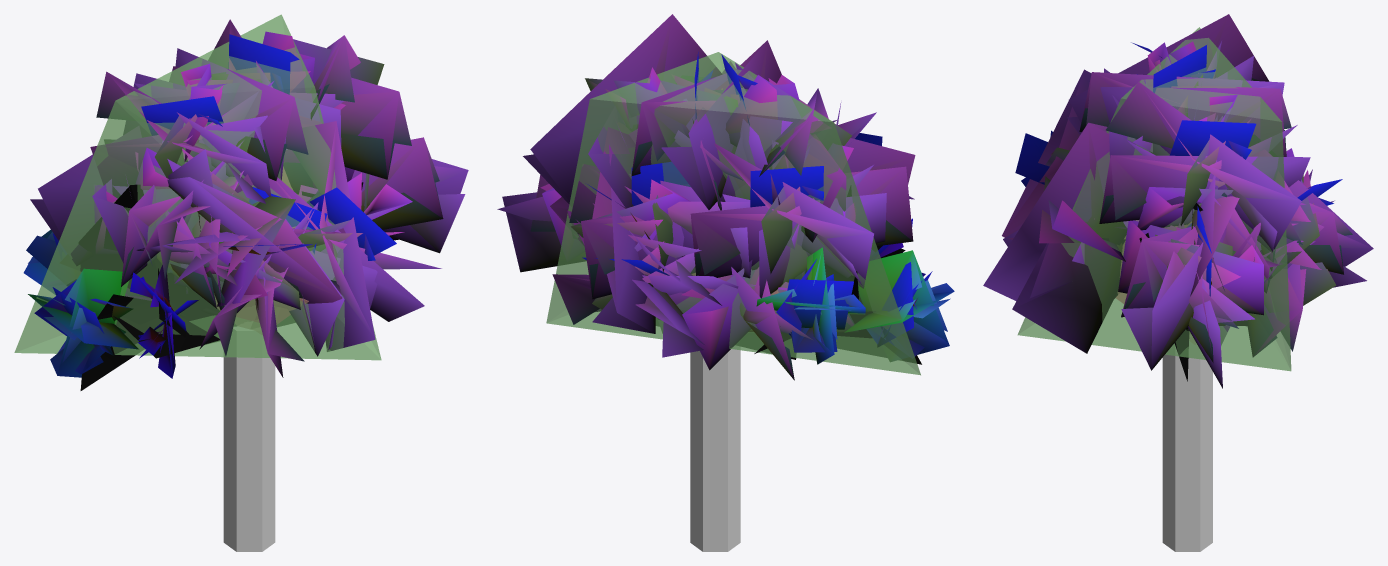
The model's file is holm_oak_city_small.dae.
3 views of the same model, side by side, from view 1: azimuth 30°, elevation 25°; view 2: azimuth 150°, elevation 25°; view 3: azimuth 270°, elevation 25° (orthographic). The views are drawn at different scales.
Visible parts, largest first — view 1: holm_oak_city_small_a150, holm_oak_city_small_a500, Colmesh-1; view 2: holm_oak_city_small_a150, holm_oak_city_small_a500, Colmesh-1; view 3: holm_oak_city_small_a150, holm_oak_city_small_a500, Colmesh-1.
Boxes of the visible parts, x1,y1,x2,y2 form: holm_oak_city_small_a150: (24,20,468,390); holm_oak_city_small_a500: (24,19,467,378); Colmesh-1: (14,14,381,551); holm_oak_city_small_a150: (502,14,954,380); holm_oak_city_small_a500: (497,15,954,379); Colmesh-1: (546,52,920,551); holm_oak_city_small_a150: (983,14,1373,388); holm_oak_city_small_a500: (1002,15,1372,381); Colmesh-1: (1017,27,1291,551).
Size of the model in its own units: 4.95 by 4.04 by 5.64.
